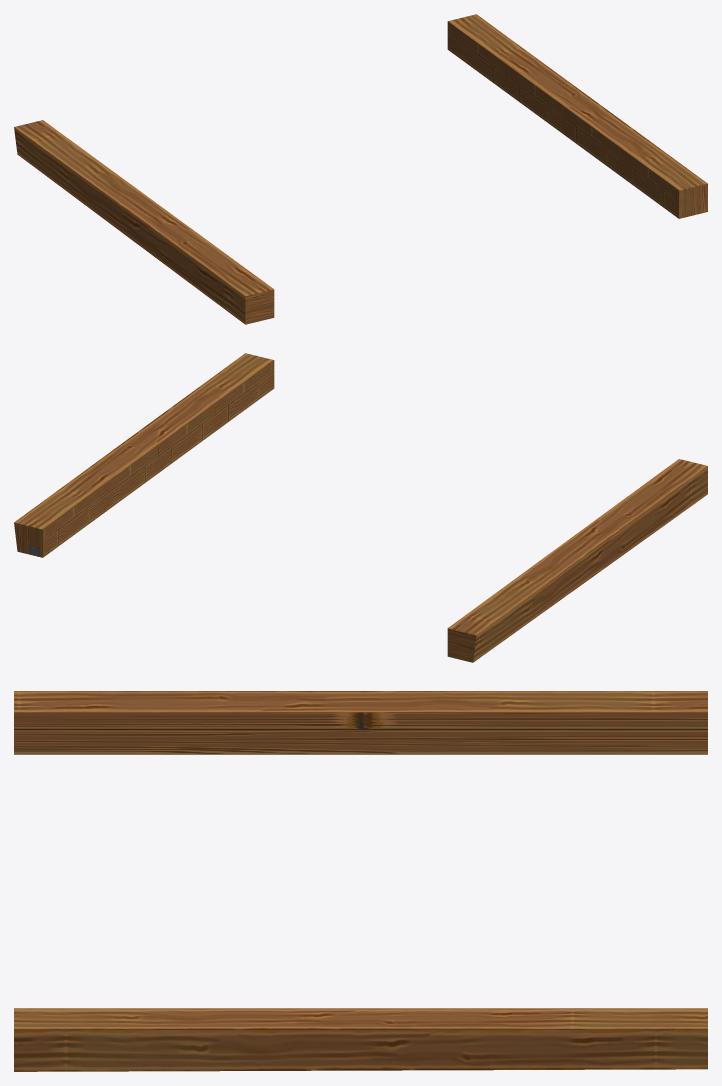
The picture shows the model from 3 angles, top to bottom: view 1: azimuth 30°, elevation 25°; view 2: azimuth 150°, elevation 25°; view 3: azimuth 270°, elevation 25°; orthographic projection. The views are drawn at different scales.
Parts seen in each view (by area): view 1: Cube.843; view 2: Cube.843; view 3: Cube.843.
Boxes of the visible parts, x1,y1,x2,y2 form: Cube.843: (14,14,707,324); Cube.843: (14,353,707,662); Cube.843: (14,691,707,1071).
Bounding box in the file's own units: 629 × 36.76 × 545.
1 material, 1 textured.
